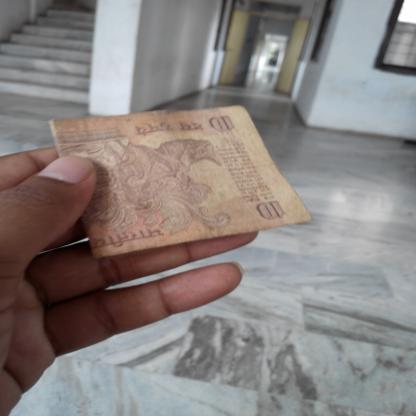Old10Back: (46, 105, 313, 259)
